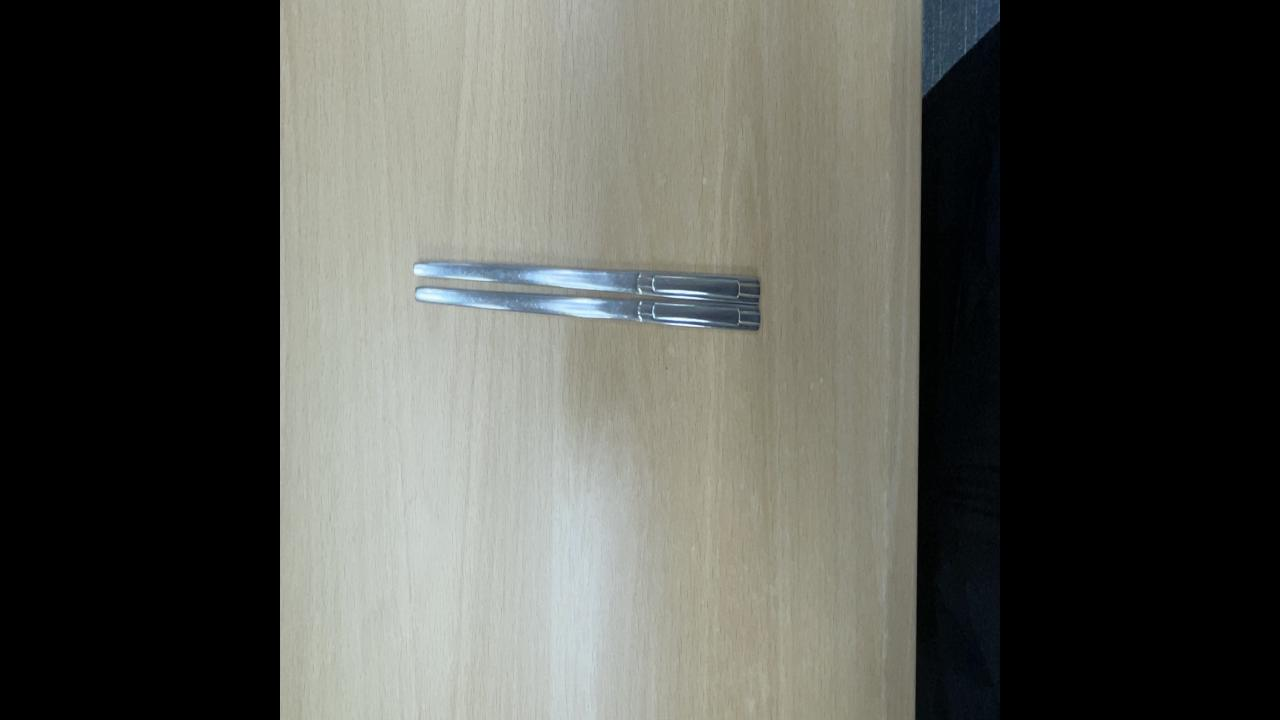chopstick: (410, 258, 768, 337)
